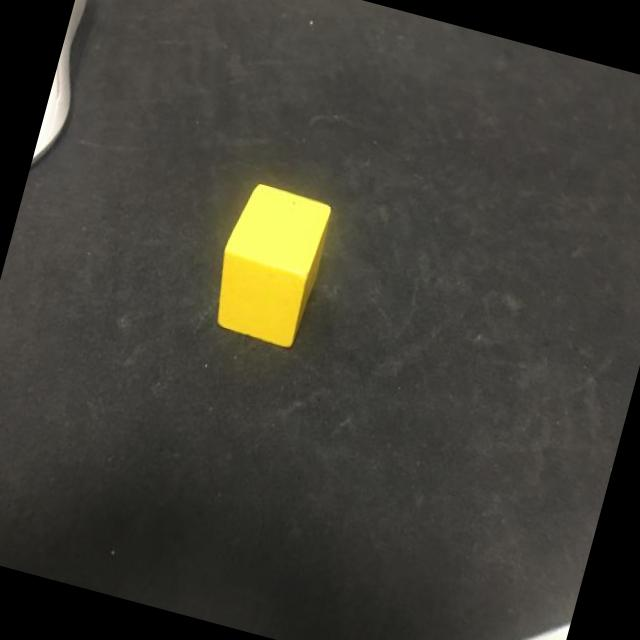yellow: (204, 179, 335, 350)
